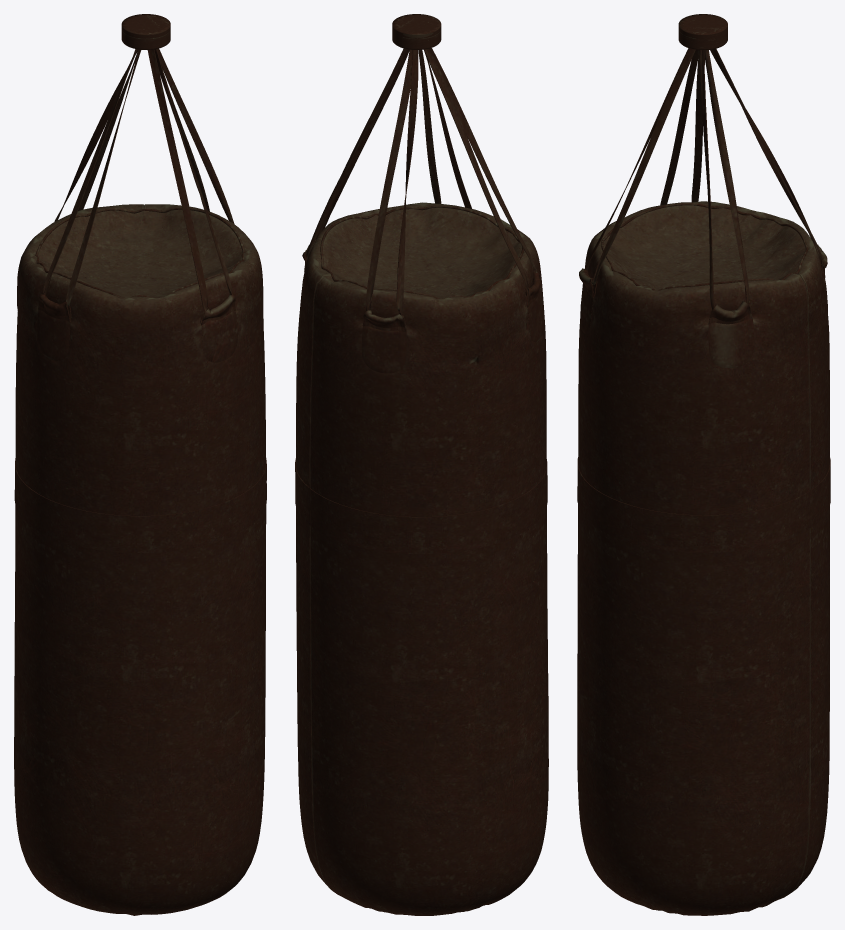
The picture shows the model from 3 angles, left to right: view 1: azimuth 30°, elevation 25°; view 2: azimuth 150°, elevation 25°; view 3: azimuth 270°, elevation 25°; orthographic projection.
Visible parts, largest first — view 1: Pattern2D_517332, Group001, Cylinder002; view 2: Pattern2D_517332, Group001, Cylinder002; view 3: Pattern2D_517332, Group001, Cylinder002.
Part boxes in pixels (x1,y1,x2,y2): Pattern2D_517332: (14, 204, 266, 915); Group001: (14, 48, 266, 552); Cylinder002: (121, 14, 170, 49); Pattern2D_517332: (296, 202, 548, 915); Group001: (295, 48, 547, 554); Cylinder002: (392, 14, 441, 49); Pattern2D_517332: (577, 201, 829, 915); Group001: (577, 48, 830, 552); Cylinder002: (678, 14, 727, 50).
Bounding box in the file's own units: 0.4361 × 1.63 × 0.4337.
1 material, 1 textured.
